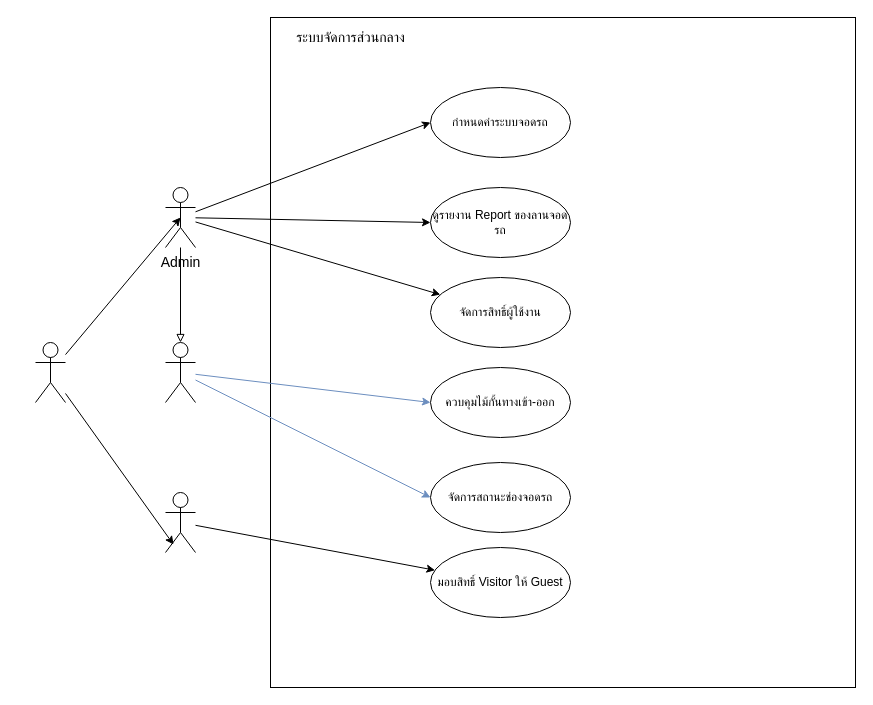
Image size: 873x705. Some labels were removed from this diagram. Each missing label, with the centre of its shape:
"Check admin" belongs at point 180,372.
"Invite-Admin" belongs at point 180,522.
"SuperAdmin" belongs at point 50,372.
